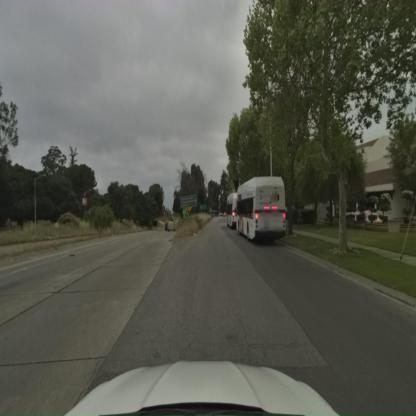truck: (232, 176, 288, 243)
